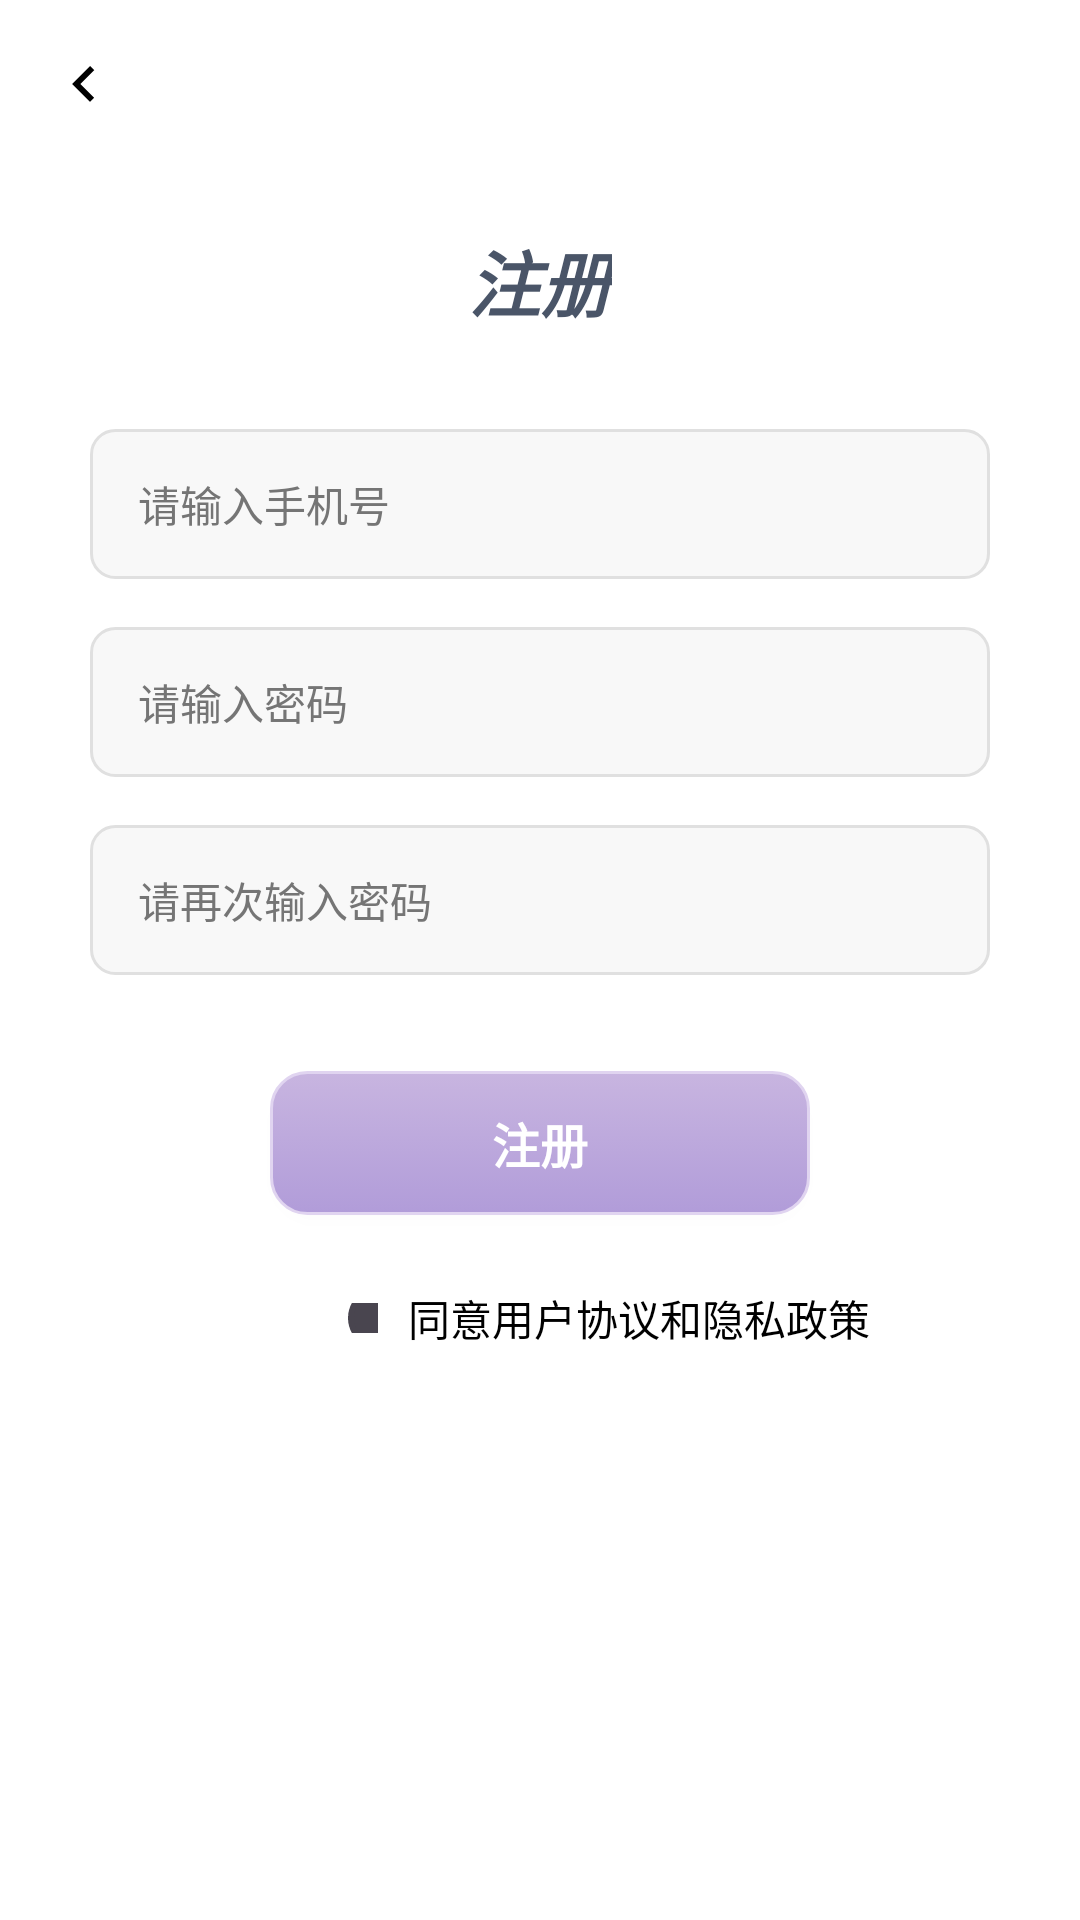

Where icons sit on this 1080*1920 app screen, as (x1, y1, x2, y2):
arrow left: (72, 66, 94, 102)
